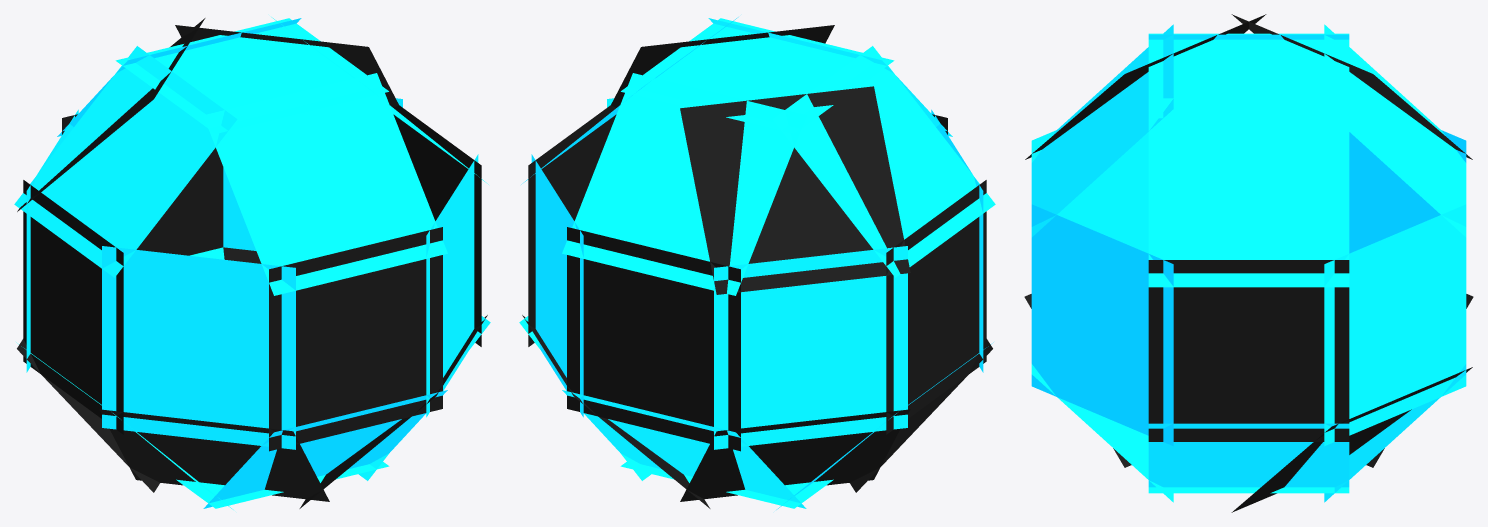
The model's file is outside.glb.
3 renders of one model, left to right at view 1: azimuth 30°, elevation 25°; view 2: azimuth 150°, elevation 25°; view 3: azimuth 270°, elevation 25°, orthographic.
Parts seen in each view (by area): view 1: Plane.010, Plane.014, Plane.005, Plane.018, Plane.004, Plane.008, Plane.024, Plane.011, Plane.020, Plane, Plane.006, Plane.028 (+7 smaller); view 2: Plane.009, Plane, Plane.013, Plane.026, Plane.018, Plane.004, Plane.008, Plane.023, Plane.012, Plane.017, Plane.006, Plane.027 (+5 smaller); view 3: Plane.016, Plane.006, Plane.011, Plane.012, Plane.008, Plane.015, Plane.013, Plane.014, Plane.009, Plane.010, Plane.020, Plane.022 (+5 smaller).
Boxes of the visible parts, <box> form: Plane.010: <box>102,246,295,449</box>; Plane.014: <box>203,73,447,295</box>; Plane.005: <box>269,227,442,451</box>; Plane.018: <box>14,46,237,277</box>; Plane.004: <box>23,180,123,434</box>; Plane.008: <box>115,18,388,133</box>; Plane.024: <box>99,409,329,501</box>; Plane.011: <box>426,154,478,417</box>; Plane.020: <box>203,390,447,508</box>; Plane: <box>62,114,223,255</box>; Plane.006: <box>393,105,481,346</box>; Plane.028: <box>175,25,398,107</box>; Plane.009: <box>714,246,907,449</box>; Plane: <box>567,227,740,451</box>; Plane.013: <box>562,73,806,295</box>; Plane.026: <box>680,86,910,294</box>; Plane.018: <box>772,46,995,277</box>; Plane.004: <box>886,180,986,434</box>; Plane.008: <box>621,18,894,133</box>; Plane.023: <box>680,409,910,501</box>; Plane.012: <box>531,154,583,417</box>; Plane.017: <box>562,390,806,508</box>; Plane.006: <box>528,105,616,346</box>; Plane.027: <box>611,25,834,107</box>; Plane.016: <box>1148,98,1349,287</box>; Plane.006: <box>1148,260,1349,441</box>; Plane.011: <box>1031,204,1173,446</box>; Plane.012: <box>1324,204,1466,446</box>; Plane.008: <box>1148,33,1349,118</box>; Plane.015: <box>1148,423,1349,487</box>; Plane.013: <box>1324,24,1466,237</box>; Plane.014: <box>1031,24,1173,237</box>; Plane.009: <box>1349,130,1466,253</box>; Plane.010: <box>1031,130,1148,253</box>; Plane.020: <box>1031,364,1173,502</box>; Plane.022: <box>1231,367,1472,512</box>.
Bounding box in the file's own units: 45.2 × 43.71 × 45.2.
